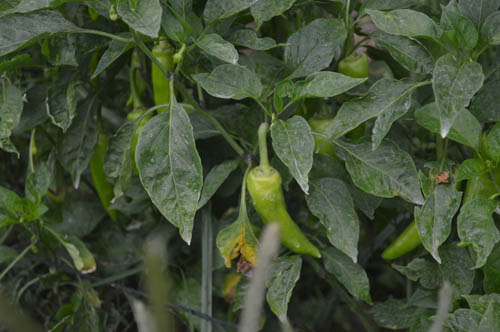ChiliPepper: (249, 172, 323, 254), (88, 135, 118, 216), (382, 221, 422, 261), (150, 51, 176, 109)
